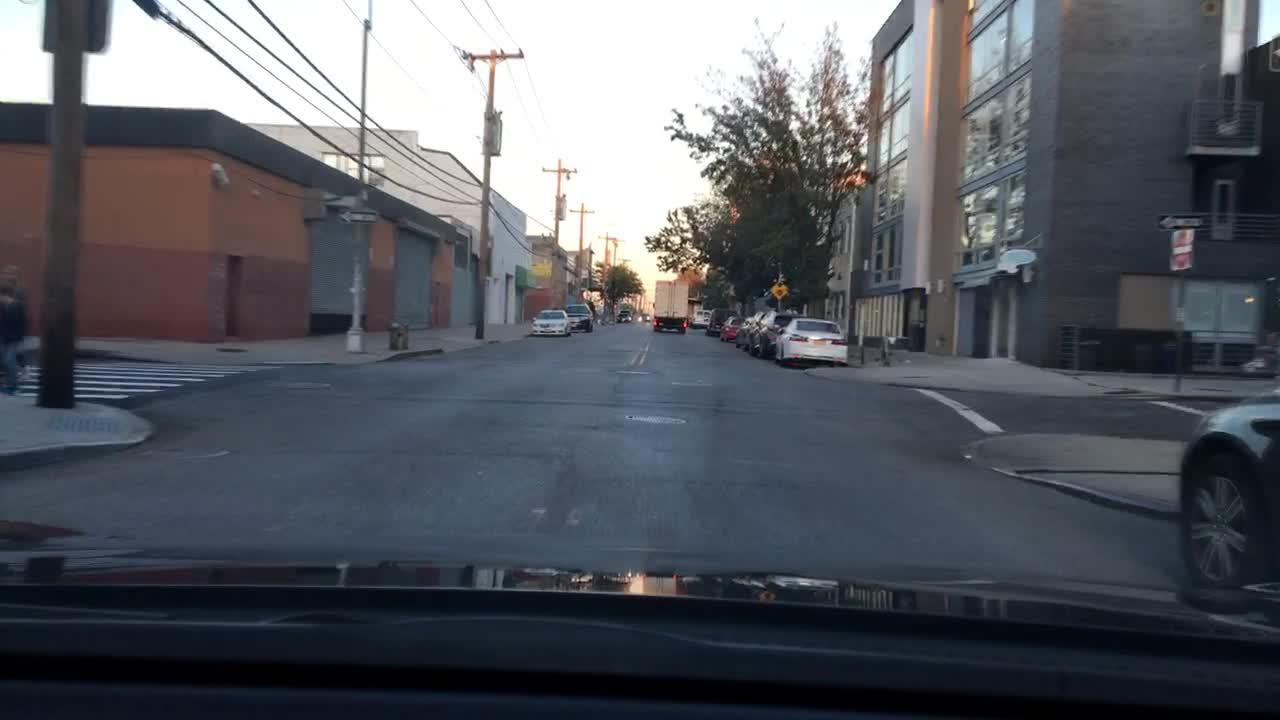car: (1172, 389, 1278, 591), (773, 316, 848, 369), (753, 311, 797, 358), (529, 306, 569, 339), (734, 314, 762, 351), (561, 302, 595, 332), (705, 305, 727, 335), (722, 313, 739, 342), (688, 308, 710, 328), (615, 306, 633, 323), (636, 309, 650, 322)
person: (0, 260, 33, 395)
traffic sign: (40, 0, 111, 52), (1171, 229, 1191, 268), (1160, 213, 1201, 225), (339, 210, 376, 222), (531, 260, 554, 272), (769, 282, 786, 297)
truck: (652, 279, 690, 332)
